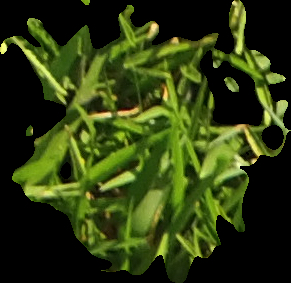grass: (4, 1, 289, 282)
